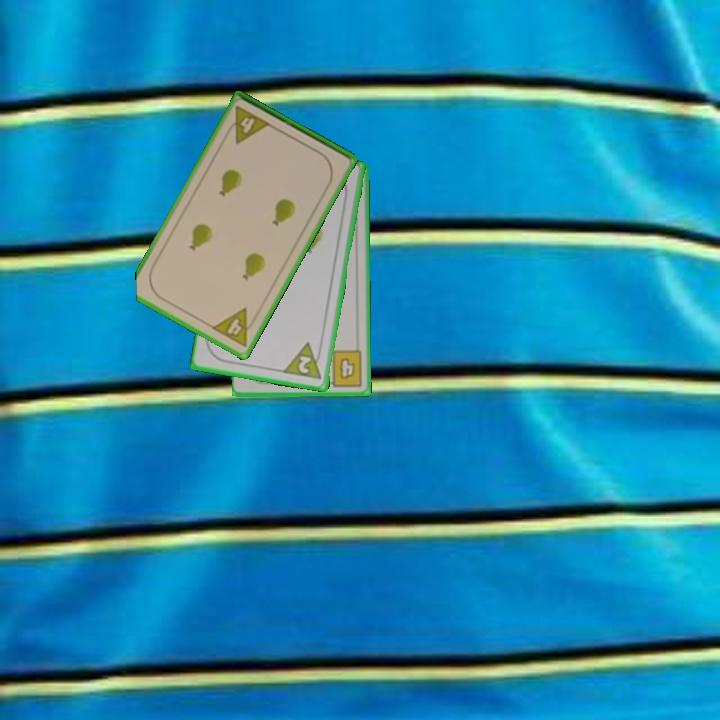2p: (281, 339, 325, 383)
4b: (322, 347, 366, 389)
4p: (208, 304, 261, 350), (221, 102, 273, 147)
